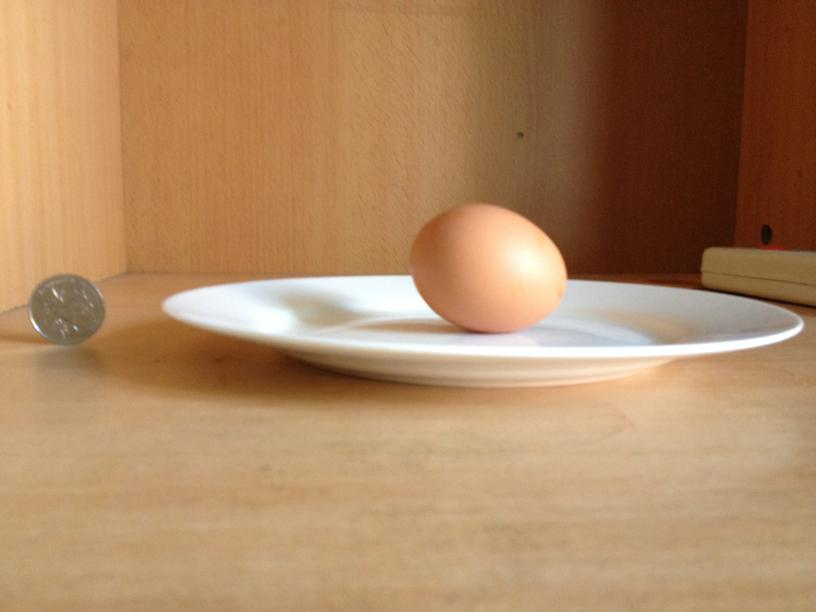coin: (28, 269, 107, 343)
egg: (408, 203, 566, 331)
